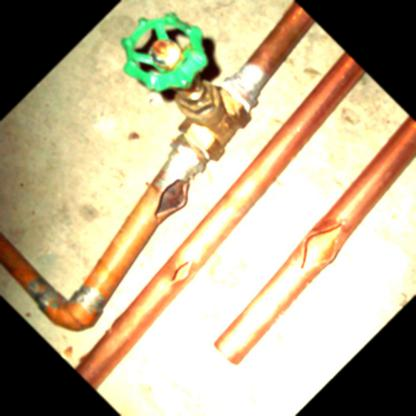burst: (302, 221, 345, 271), (152, 179, 193, 217), (171, 262, 201, 289)
